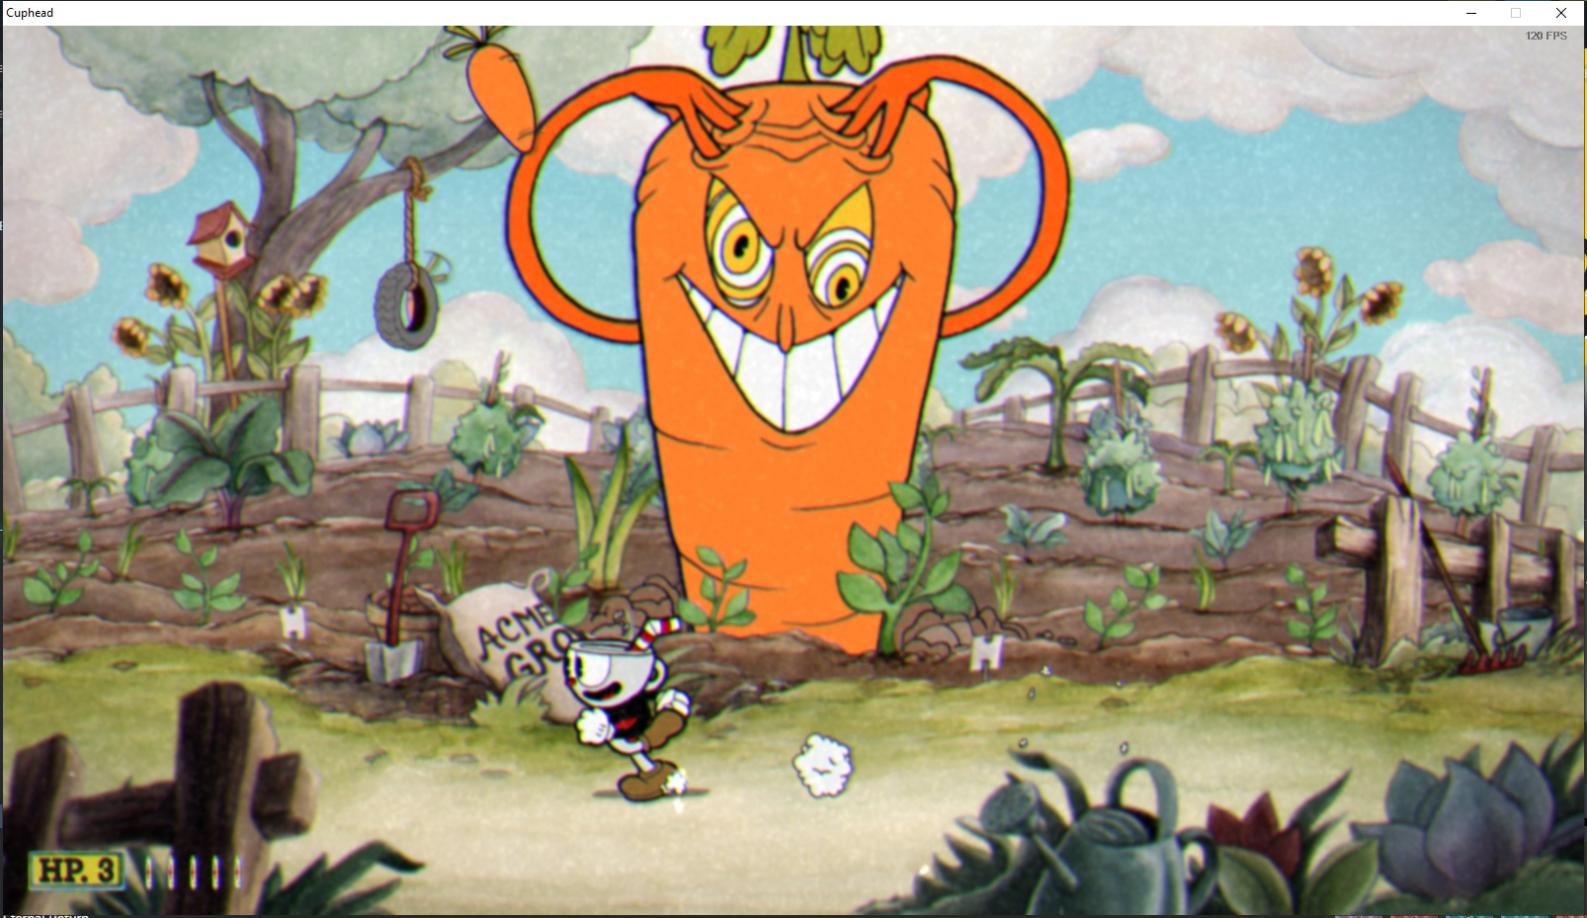carrot: (436, 24, 551, 155)
hp3: (90, 852, 124, 889)
player: (546, 610, 714, 806)
